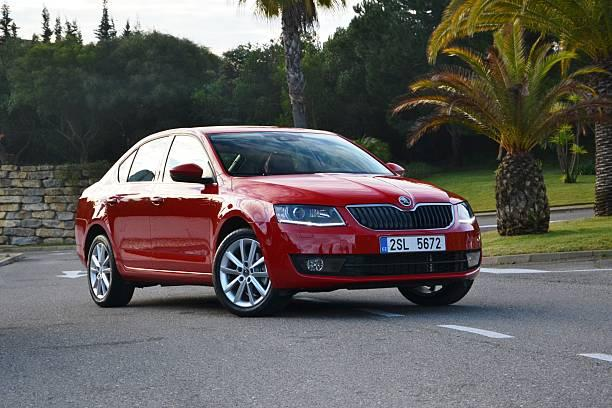skoda: (396, 192, 415, 208)
